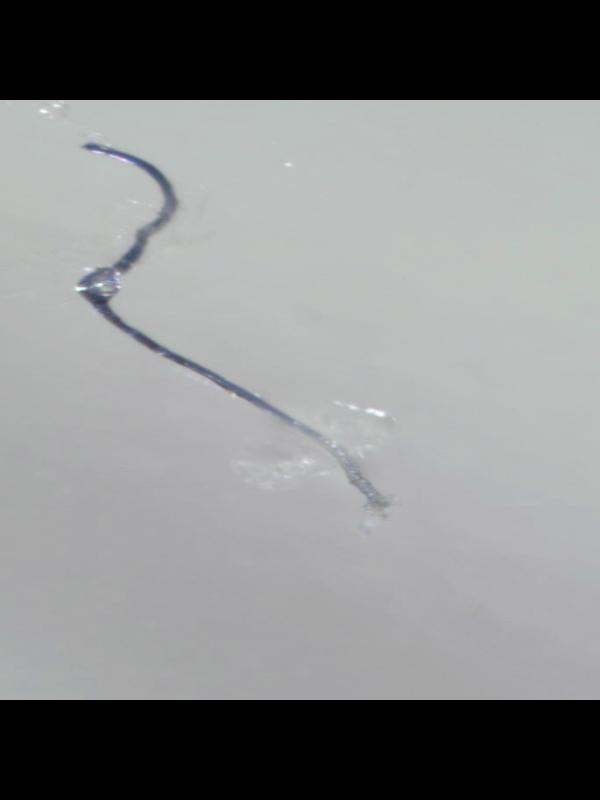microplastic: (68, 142, 398, 534)
